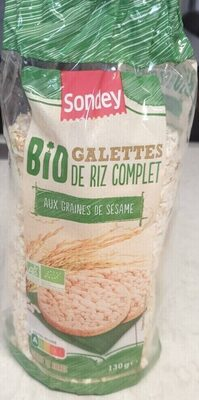Galettes de riz complet: (10, 20, 189, 380)
